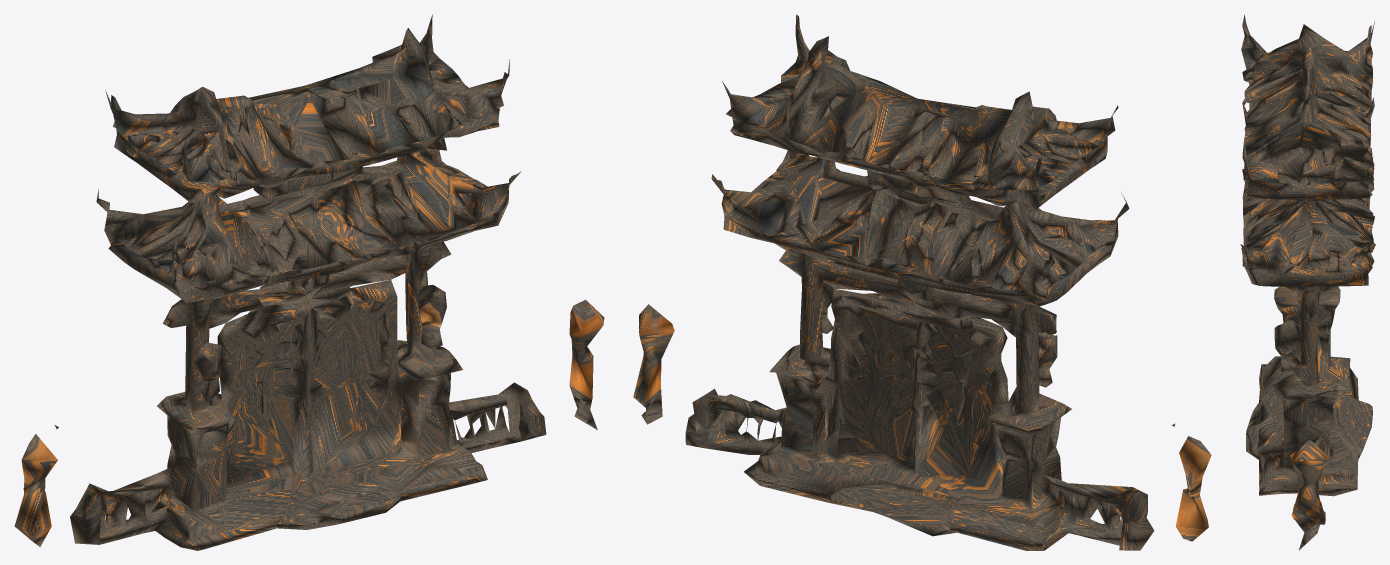
The model's file is ninja_runner_port_ninjaShrineGate.glb.
The picture shows the model from 3 angles, left to right: view 1: azimuth 30°, elevation 25°; view 2: azimuth 150°, elevation 25°; view 3: azimuth 270°, elevation 25°; orthographic projection. The views are drawn at different scales.
Size of the model in its own units: 1.88 by 1.36 by 0.4511.
1 material, 1 textured.
